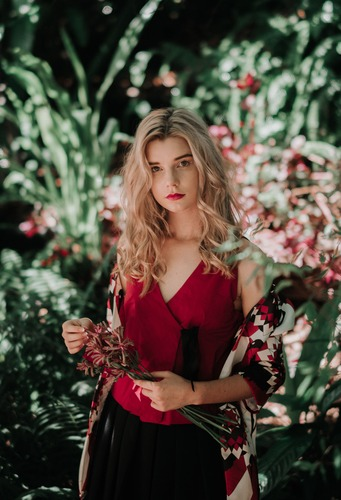without_mask: (144, 152, 199, 210)
